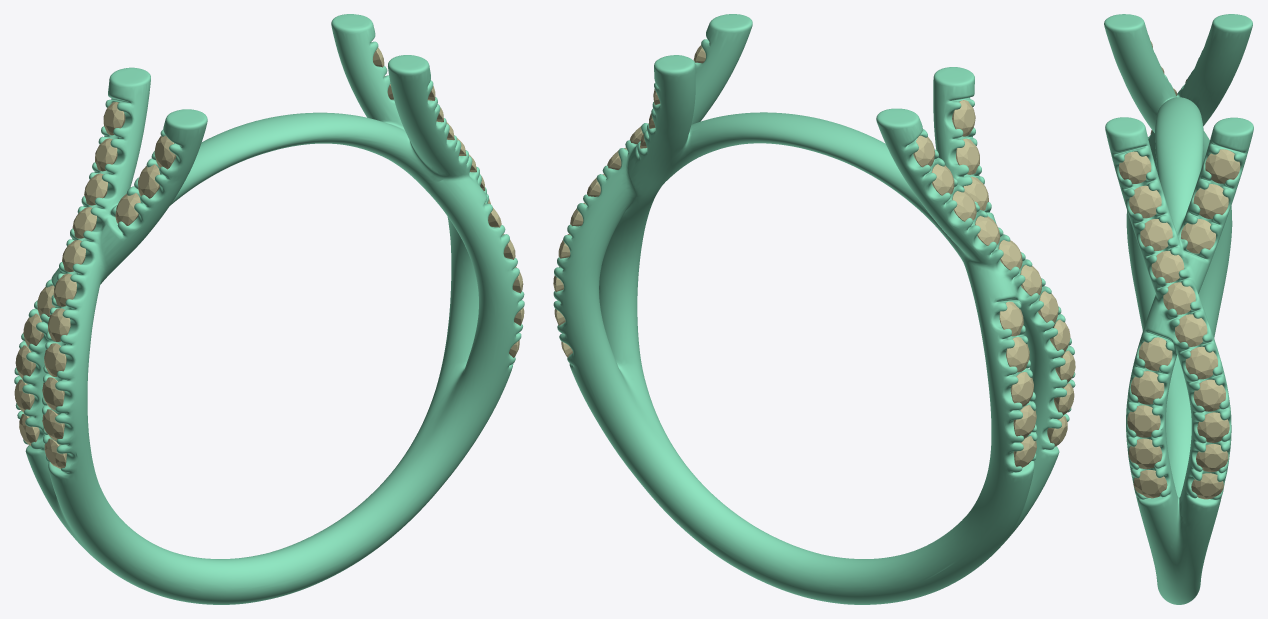
3 views of the same model, side by side, from view 1: azimuth 30°, elevation 25°; view 2: azimuth 150°, elevation 25°; view 3: azimuth 270°, elevation 25° (orthographic). The views are drawn at different scales.
Visible parts, largest first — view 1: Metal02; view 2: Metal02; view 3: Metal02, Diamond_Gem.024, Diamond_Gem.023, Diamond_Gem.022, Diamond_Gem.031, Diamond_Gem.032, Diamond_Gem.030, Diamond_Gem.016, Diamond_Gem.012, Diamond_Gem, Diamond_Gem.017, Diamond_Gem.015 (+8 smaller).
Part boxes in pixels (x1,y1,x2,y2): Metal02: (14, 14, 524, 604); Metal02: (553, 14, 1075, 604); Metal02: (1104, 14, 1253, 604); Diamond_Gem.024: (1205, 149, 1240, 183); Diamond_Gem.023: (1193, 184, 1228, 218); Diamond_Gem.022: (1181, 219, 1215, 253); Diamond_Gem.031: (1130, 371, 1164, 404); Diamond_Gem.032: (1138, 337, 1172, 370); Diamond_Gem.030: (1127, 405, 1160, 437); Diamond_Gem.016: (1175, 314, 1207, 346); Diamond_Gem.012: (1129, 185, 1161, 218); Diamond_Gem: (1119, 151, 1151, 183); Diamond_Gem.017: (1185, 346, 1217, 379); Diamond_Gem.015: (1163, 282, 1195, 314).
Size of the model in its own units: 21.3 by 22.36 by 5.98.
